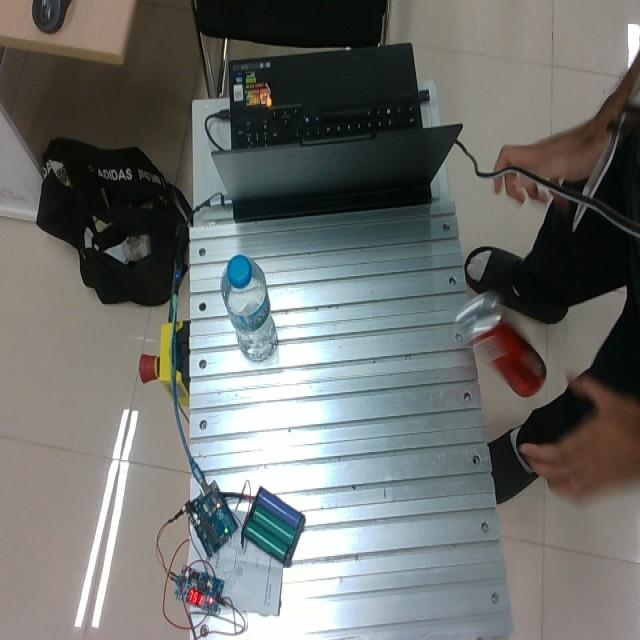coca: (463, 296, 546, 397)
lavie: (220, 254, 278, 362)
